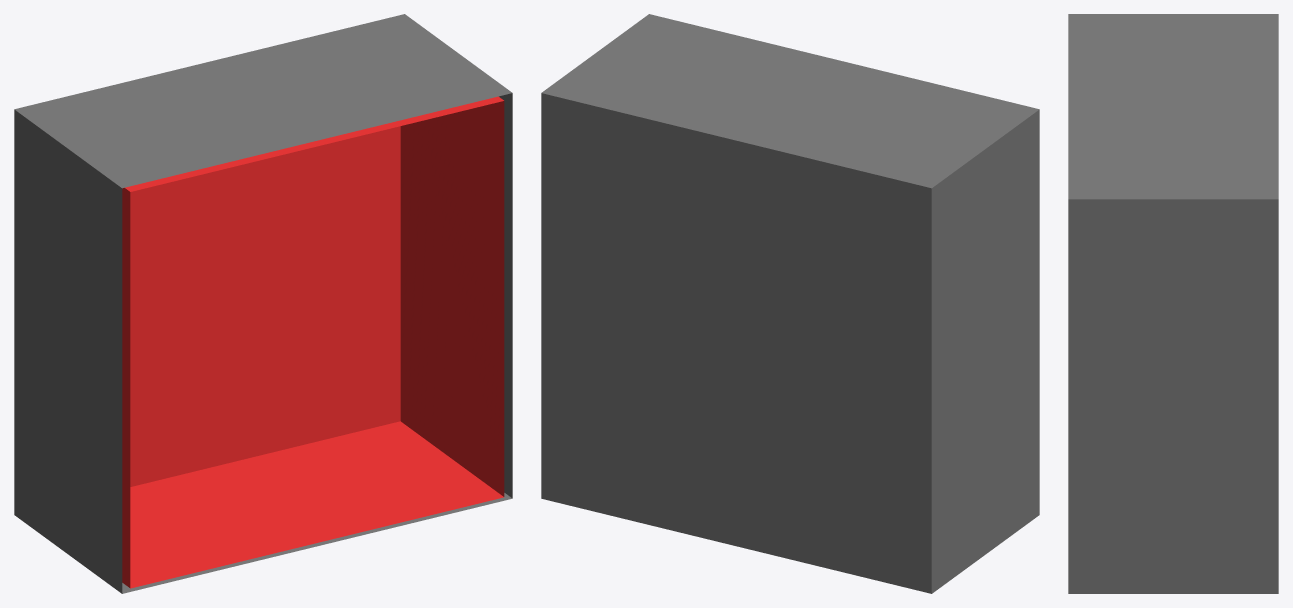
The model's file is porit.fbx.
3 views of the same model, side by side, from view 1: azimuth 30°, elevation 25°; view 2: azimuth 150°, elevation 25°; view 3: azimuth 270°, elevation 25° (orthographic). The views are drawn at different scales.
Visible parts, largest first — view 1: Box001; view 2: Box001; view 3: Box001.
Part boxes in pixels (x1,y1,x2,y2): Box001: (14, 14, 512, 593); Box001: (541, 14, 1039, 593); Box001: (1068, 14, 1278, 593).
Size of the model in its own units: 104 by 104 by 50.
